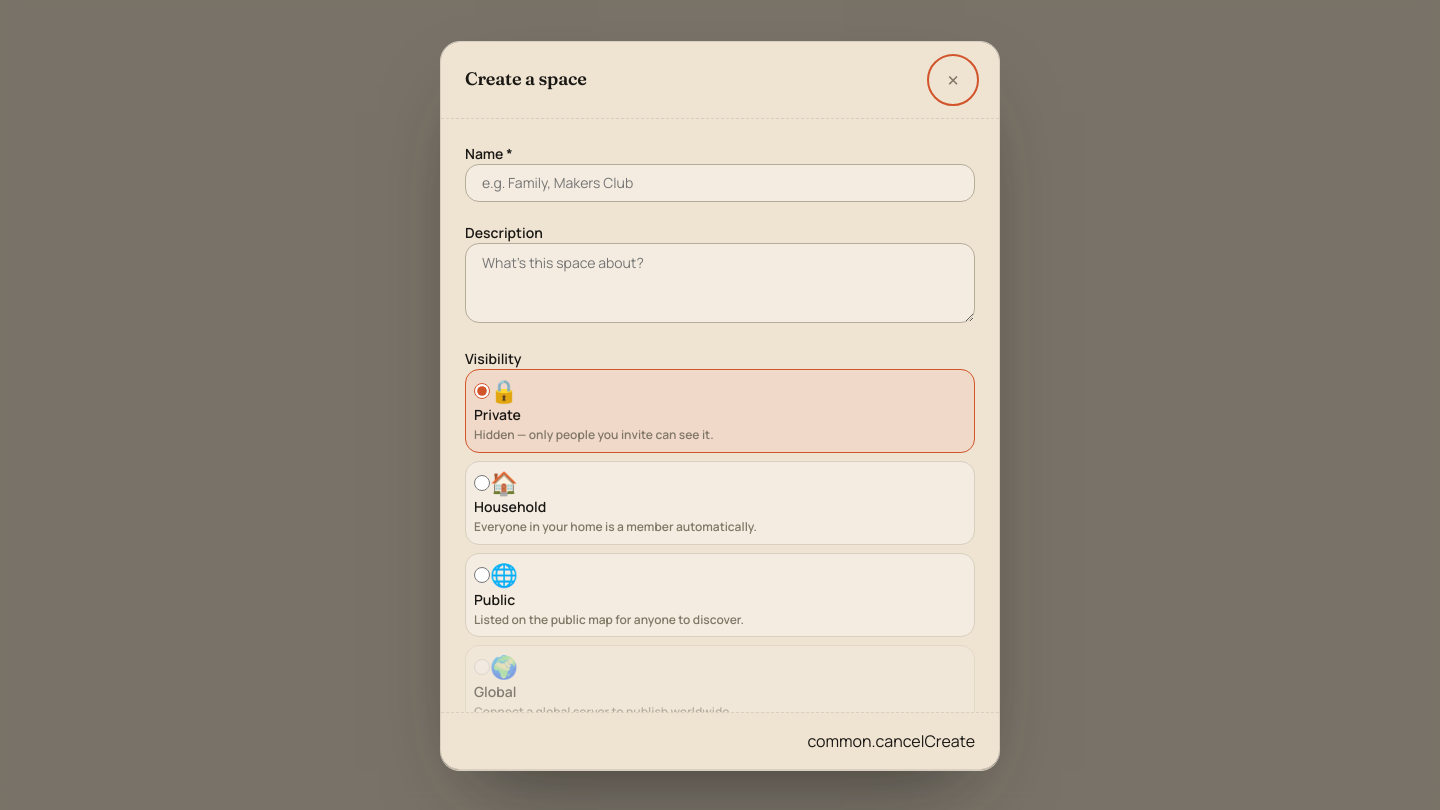
it: SpaceCreateDialog — min-age + category › shows min-age + category for public
This screenshot has width=1440, height=810.
In the field with placeholder "e.g. Family, Makers Club": (720, 182) [465, 164, 975, 202], type "Neighbourhood"
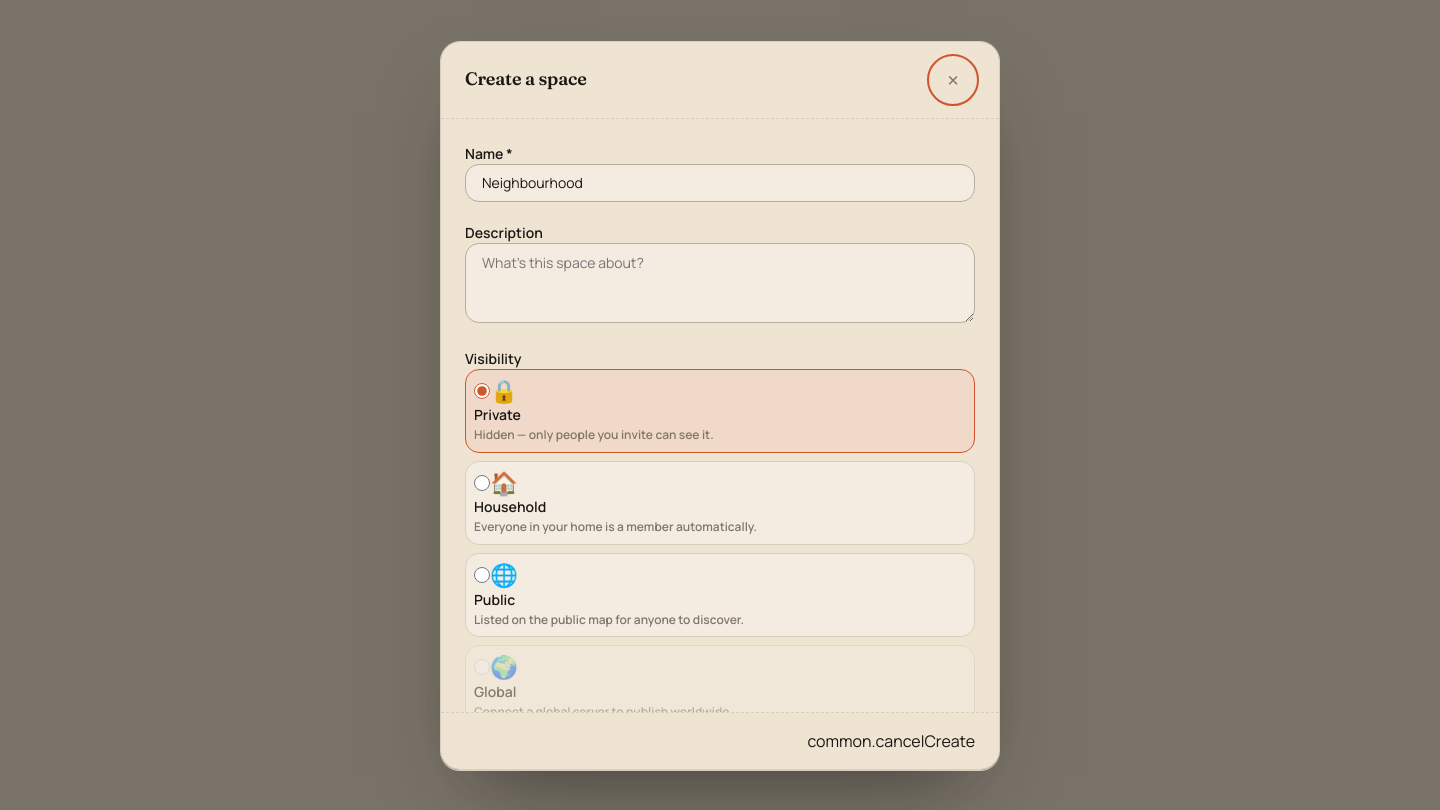
Click the radio button labelled "🌐 Public Listed on the public map for anyone to discover.": (482, 575) [474, 567, 490, 583]
(page scrolled)
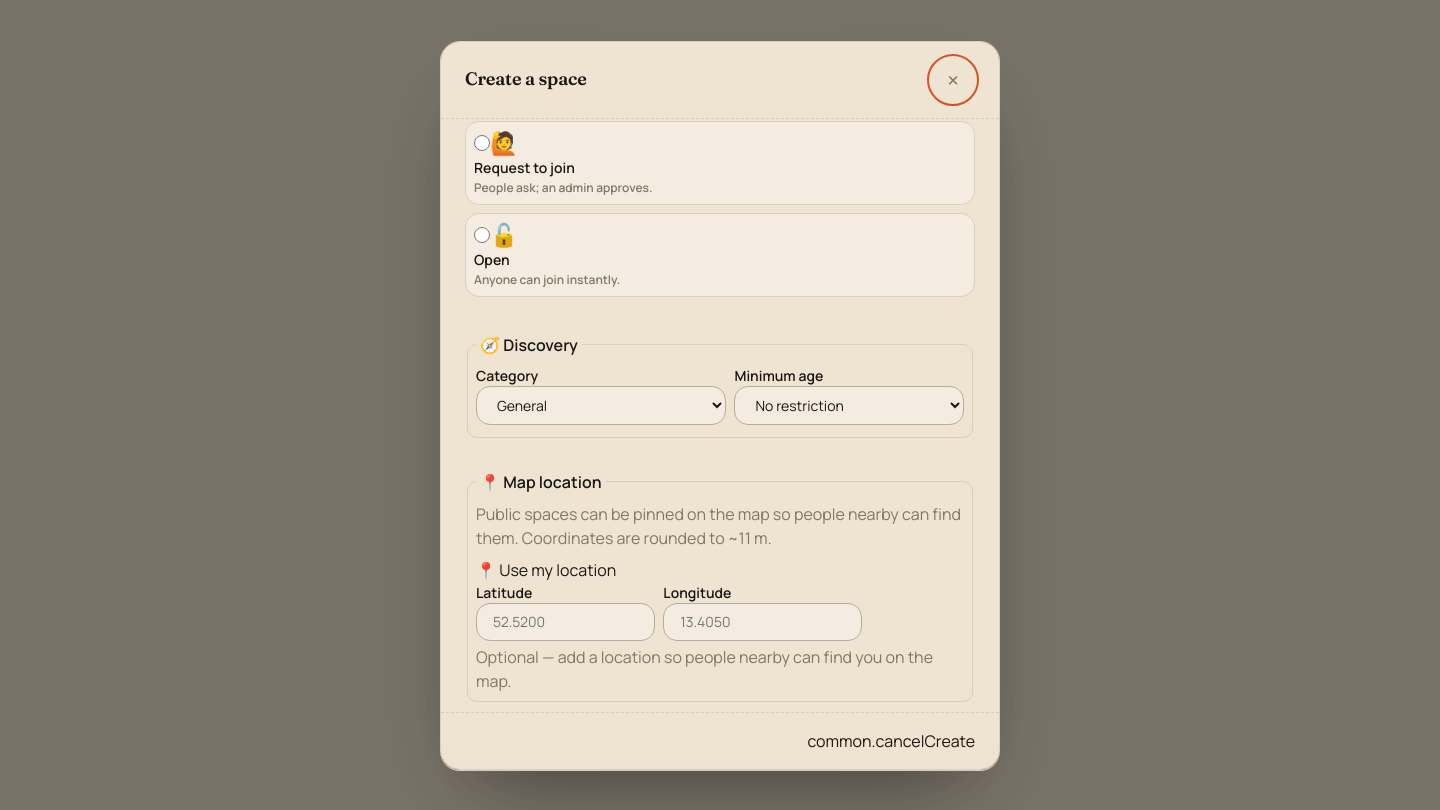
expect the dropdown named "space-create-min-age" is shown: met, box [734, 386, 964, 425]
expect the dropdown named "space-create-category" is shown: met, box [476, 386, 726, 425]
